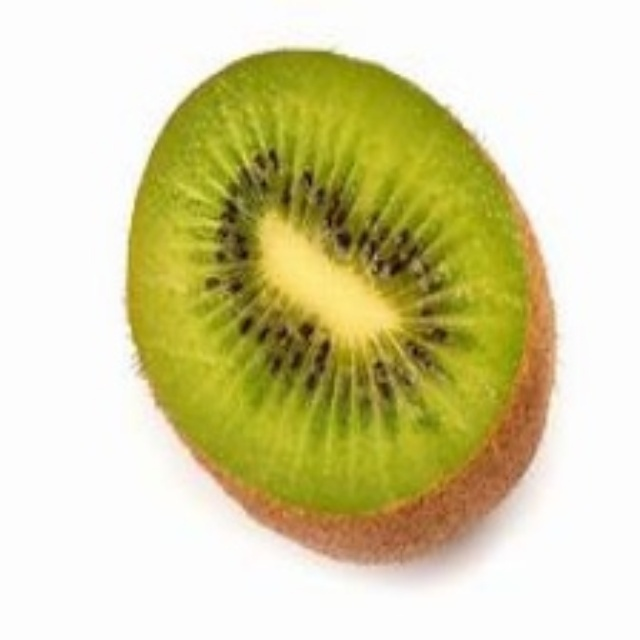kiwi: (118, 53, 568, 569)
